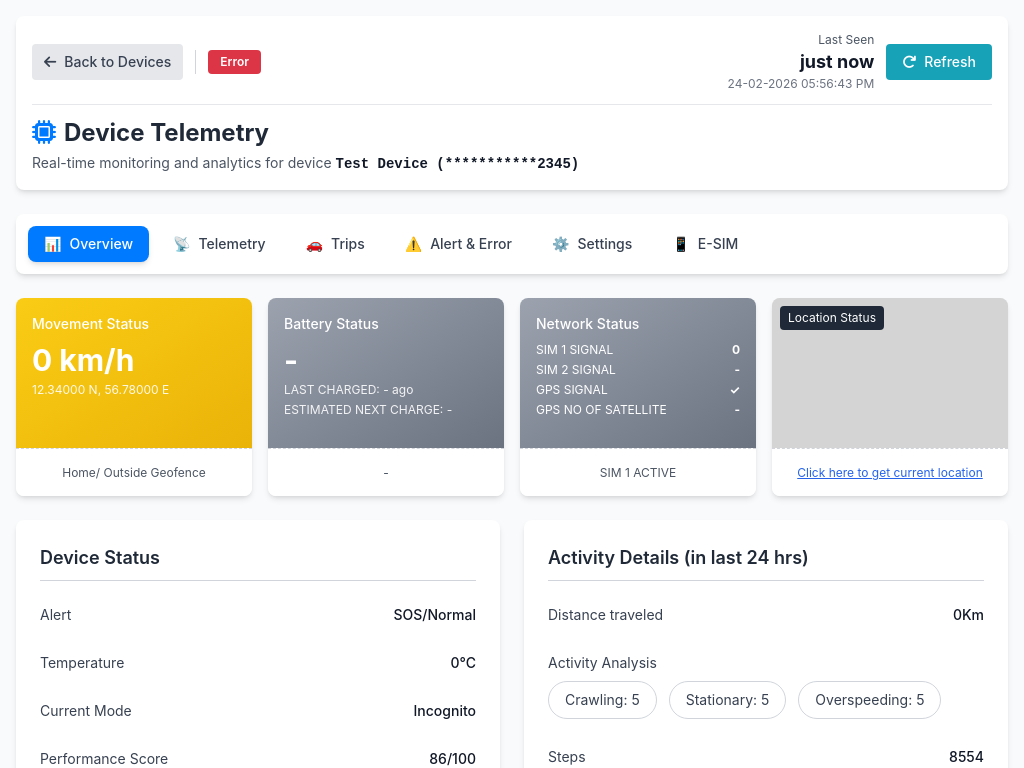
Test: Bug Condition Exploration: Ambient Listen Toggle Status › Property 1.1: Toggle is OFF when latest AMBIENT_STOP command has payload {"AmbientListen": "Stop"}
Note: Navigate to Settings tab
Click the button "⚙️ Settings".
click(592, 244)  # box [536, 226, 648, 262]
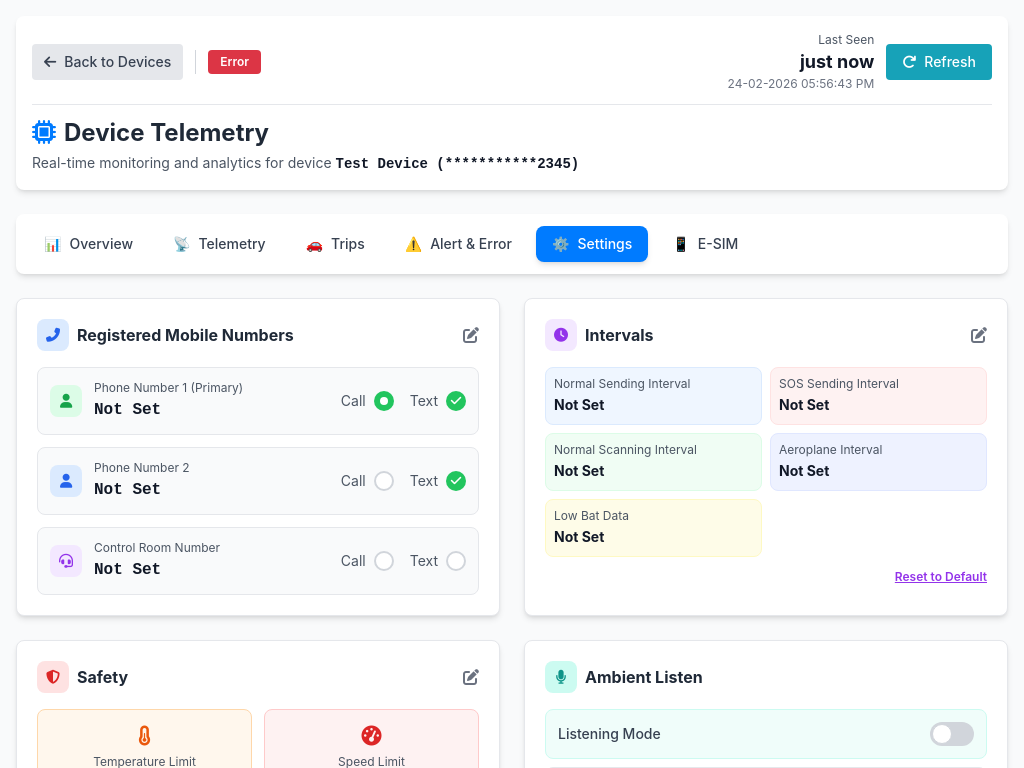
Expected: the heading "Ambient Listen" is shown, [545, 661, 703, 693]
Now the checkbox is not checked, box [930, 722, 974, 746]
